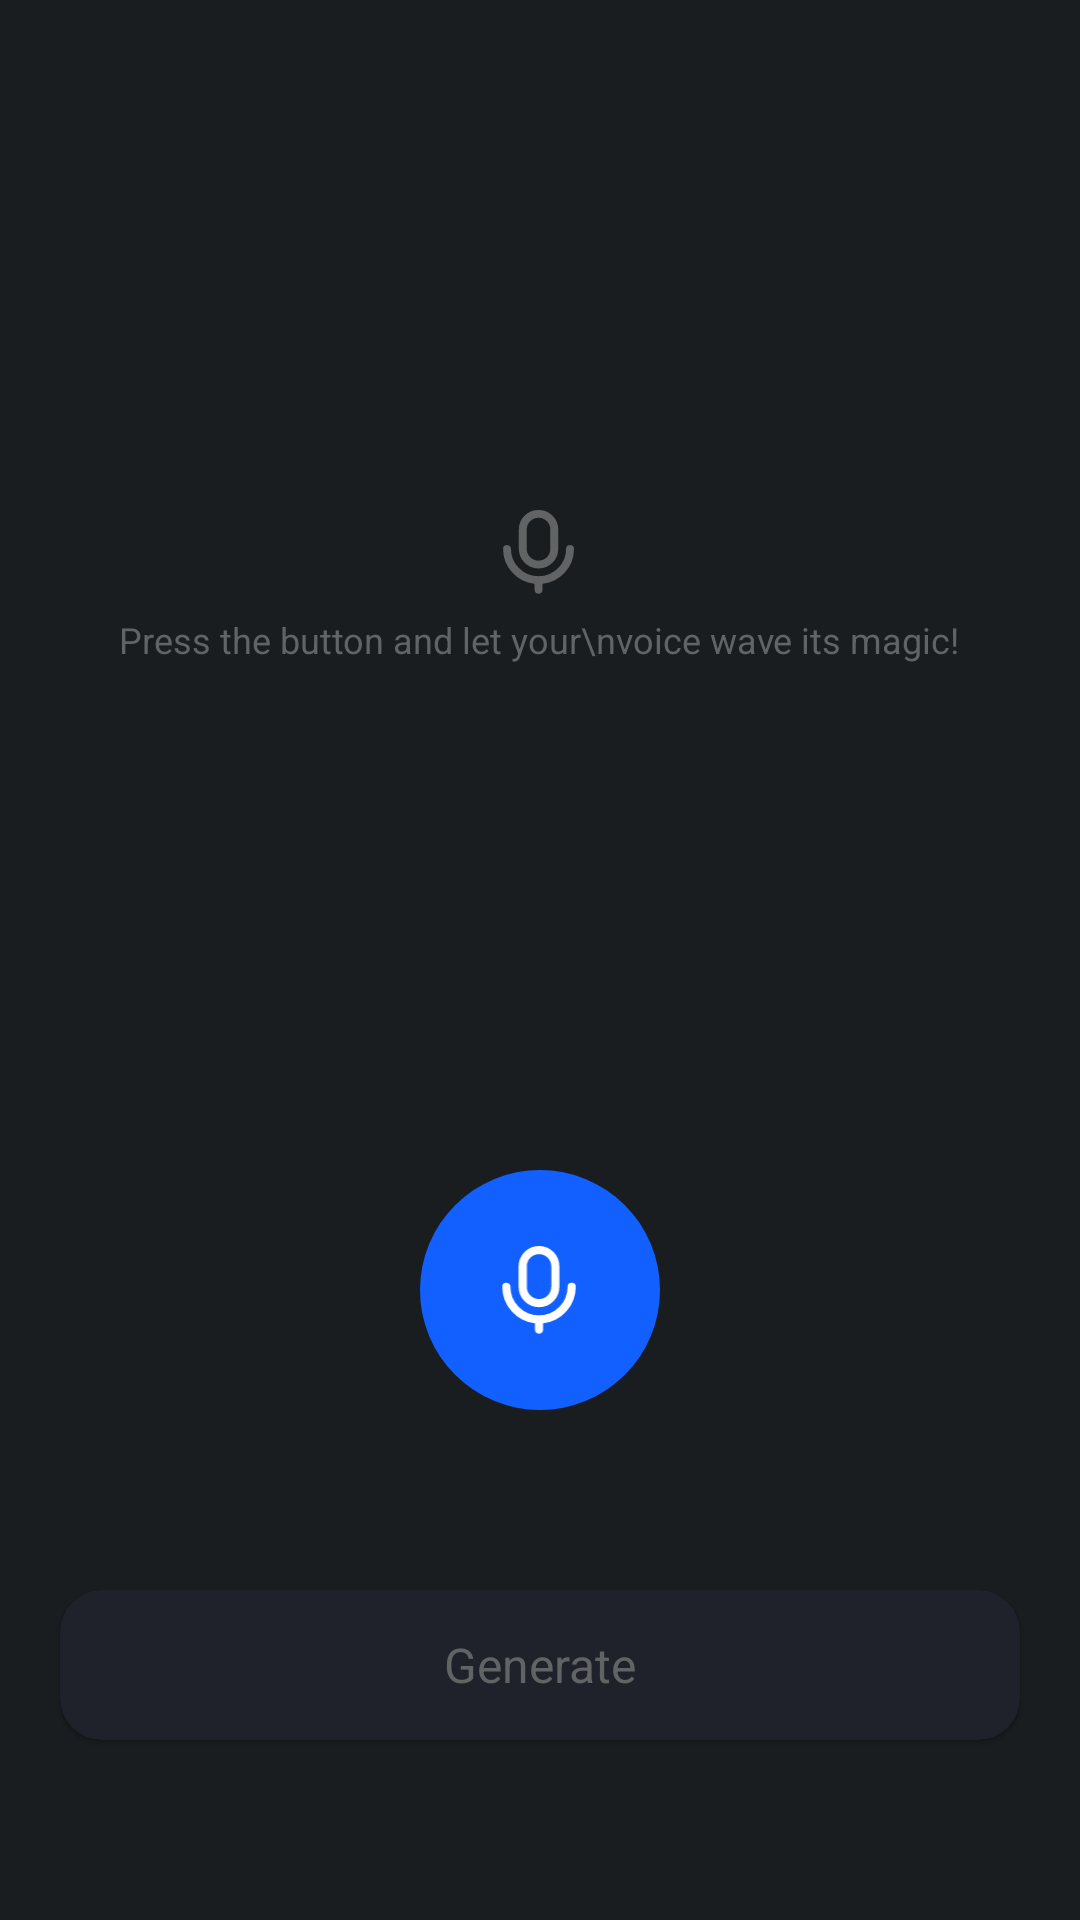

Screen size 1080 x 1920. Icon name, then its box in pixels as (x1, y1, x2, y2):
mic: (503, 510, 574, 594), (420, 1170, 660, 1410)
